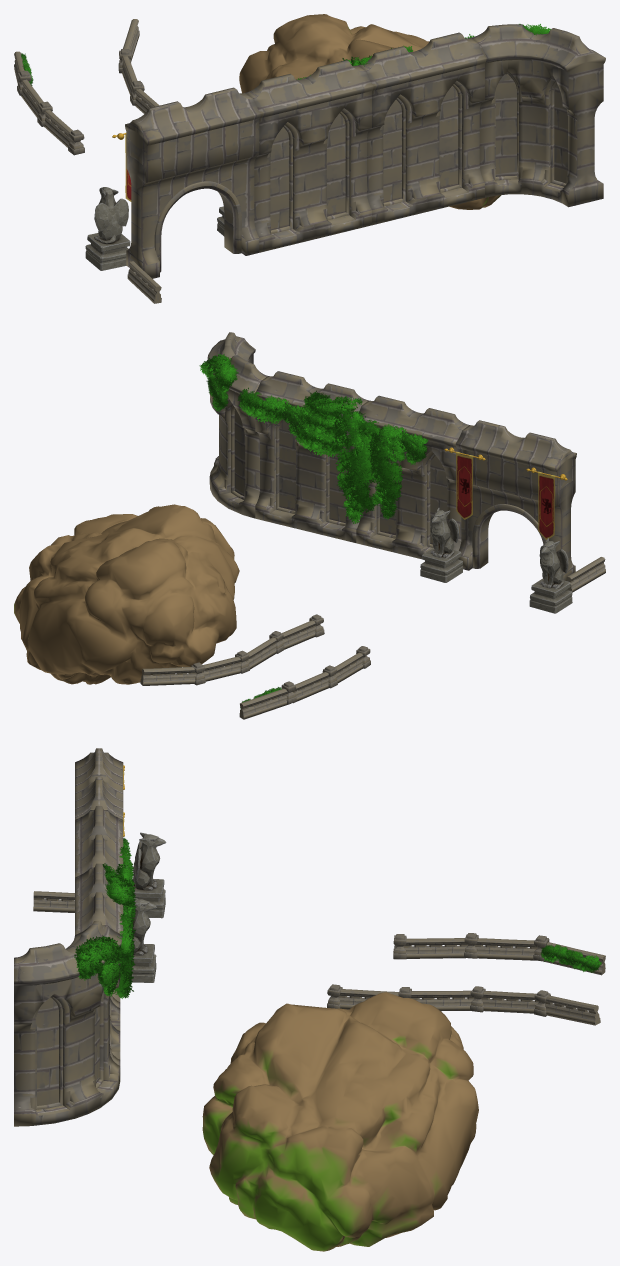
Rendered from cell_x1_z-2_render.gltf.
3 renders of one model, top to bottom at view 1: azimuth 30°, elevation 25°; view 2: azimuth 150°, elevation 25°; view 3: azimuth 270°, elevation 25°, orthographic. The views are drawn at different scales.
Visible parts, largest first — view 1: SM_MOD_citywall_curved_castle_LOD0.002, SM_MOD_citywall_straight_castle_LOD0.009, SM_MOD_citywall_straight_castle_LOD0.011, SM_MOD_citywall_gate_castle_LOD0.001, SM_ENV_cliff_castle_01_LOD0.018, SM_PROP_statue_castle_01_LOD0.001, SM_MOD_railing_02_straight_castle_LOD0.094, SM_MOD_railing_02_straight_castle_LOD0.175, SM_MOD_railing_02_straight_castle_LOD0.161; view 2: SM_ENV_cliff_castle_01_LOD0.018, SM_MOD_citywall_gate_castle_LOD0.001, SM_MOD_citywall_straight_castle_LOD0.011, SM_MOD_citywall_straight_castle_LOD0.009, SM_MOD_citywall_curved_castle_LOD0.002, SM_ENV_bush_castle_08_LOD0.053, SM_ENV_bush_castle_08_LOD0.062, SM_PROP_statue_castle_01_LOD0.001, SM_PROP_statue_castle_01_LOD0.007, SM_PROP_flag_castle_02_LOD0.004, SM_PROP_flag_castle_02_LOD0.003, SM_ENV_bush_castle_07_LOD0.030 (+14 smaller); view 3: SM_ENV_cliff_castle_01_LOD0.018, SM_MOD_citywall_curved_castle_LOD0.002, SM_MOD_citywall_straight_castle_LOD0.011, SM_MOD_citywall_straight_castle_LOD0.009, SM_MOD_citywall_gate_castle_LOD0.001, SM_PROP_statue_castle_01_LOD0.001, SM_PROP_statue_castle_01_LOD0.007, SM_ENV_bush_castle_07_LOD0.082, SM_MOD_railing_02_straight_castle_LOD0.175, SM_MOD_railing_02_straight_castle_LOD0.161, SM_MOD_railing_02_straight_castle_LOD0.202, SM_MOD_railing_02_straight_castle_LOD0.063 (+4 smaller).
Part boxes in pixels (<box>): SM_MOD_citywall_curved_castle_LOD0.002: <box>471,24,605,207</box>; SM_MOD_citywall_straight_castle_LOD0.009: <box>245,60,373,252</box>; SM_MOD_citywall_straight_castle_LOD0.011: <box>358,32,486,225</box>; SM_MOD_citywall_gate_castle_LOD0.001: <box>125,87,260,278</box>; SM_ENV_cliff_castle_01_LOD0.018: <box>239,14,500,209</box>; SM_PROP_statue_castle_01_LOD0.001: <box>85,187,130,270</box>; SM_MOD_railing_02_straight_castle_LOD0.094: <box>127,261,161,303</box>; SM_MOD_railing_02_straight_castle_LOD0.175: <box>44,110,72,147</box>; SM_MOD_railing_02_straight_castle_LOD0.161: <box>21,79,43,117</box>; SM_ENV_cliff_castle_01_LOD0.018: <box>14,504,239,684</box>; SM_MOD_citywall_gate_castle_LOD0.001: <box>455,420,576,581</box>; SM_MOD_citywall_straight_castle_LOD0.011: <box>254,371,368,542</box>; SM_MOD_citywall_straight_castle_LOD0.009: <box>356,395,468,559</box>; SM_MOD_citywall_curved_castle_LOD0.002: <box>207,332,267,518</box>; SM_ENV_bush_castle_08_LOD0.053: <box>331,409,375,523</box>; SM_ENV_bush_castle_08_LOD0.062: <box>368,426,405,519</box>; SM_PROP_statue_castle_01_LOD0.001: <box>529,538,572,613</box>; SM_PROP_statue_castle_01_LOD0.007: <box>420,508,462,582</box>; SM_PROP_flag_castle_02_LOD0.004: <box>526,467,567,539</box>; SM_PROP_flag_castle_02_LOD0.003: <box>444,447,485,519</box>; SM_ENV_bush_castle_07_LOD0.030: <box>237,387,290,423</box>; SM_ENV_cliff_castle_01_LOD0.018: <box>202,992,478,1251</box>; SM_MOD_citywall_curved_castle_LOD0.002: <box>14,921,122,1126</box>; SM_MOD_citywall_straight_castle_LOD0.011: <box>75,863,123,1065</box>; SM_MOD_citywall_straight_castle_LOD0.009: <box>75,806,123,1007</box>; SM_MOD_citywall_gate_castle_LOD0.001: <box>75,748,123,819</box>; SM_PROP_statue_castle_01_LOD0.001: <box>132,832,166,918</box>; SM_PROP_statue_castle_01_LOD0.007: <box>127,898,156,982</box>; SM_ENV_bush_castle_07_LOD0.082: <box>74,935,125,980</box>; SM_MOD_railing_02_straight_castle_LOD0.175: <box>403,938,467,958</box>; SM_MOD_railing_02_straight_castle_LOD0.161: <box>474,938,537,960</box>; SM_MOD_railing_02_straight_castle_LOD0.202: <box>545,995,600,1025</box>; SM_MOD_railing_02_straight_castle_LOD0.063: <box>481,991,538,1013</box>.
Bounding box in the file's own units: 36.87 × 18.24 × 34.75.
9 materials, 8 textured.
